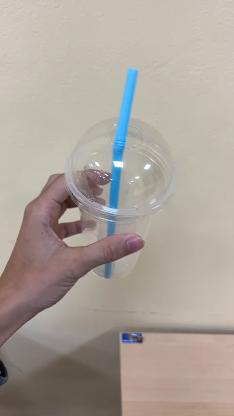Plastic Cup: (65, 114, 177, 282)
